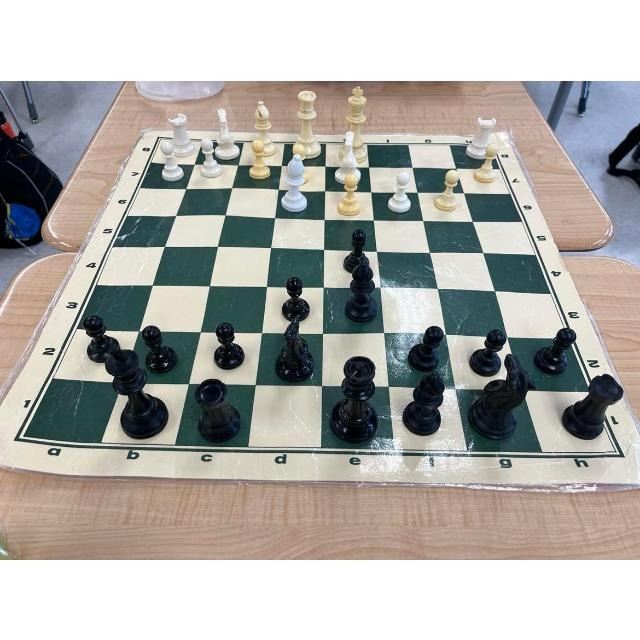black-bishop: (401, 360, 455, 440), (347, 254, 380, 331)
black-king: (101, 342, 169, 442)
black-knight: (467, 352, 528, 446), (271, 314, 319, 390)
black-pawn: (135, 320, 182, 376), (530, 322, 575, 379), (77, 310, 123, 365), (465, 321, 507, 378), (405, 324, 446, 374), (209, 319, 248, 371), (277, 271, 316, 323), (342, 224, 372, 272)
black-queen: (324, 351, 385, 447)
black-rook: (560, 373, 625, 447), (191, 372, 247, 448)
white-bishop: (279, 150, 307, 216), (251, 96, 279, 156)
white-king: (344, 85, 375, 167)
white-knight: (209, 105, 243, 161), (334, 127, 364, 186)
white-pawn: (195, 135, 225, 181), (435, 166, 465, 212), (156, 136, 185, 183), (474, 141, 502, 185), (338, 171, 364, 217), (246, 138, 273, 182), (389, 166, 413, 213), (292, 139, 310, 162)
white-queen: (296, 87, 324, 155)
white-rook: (160, 110, 196, 158), (464, 114, 500, 158)
